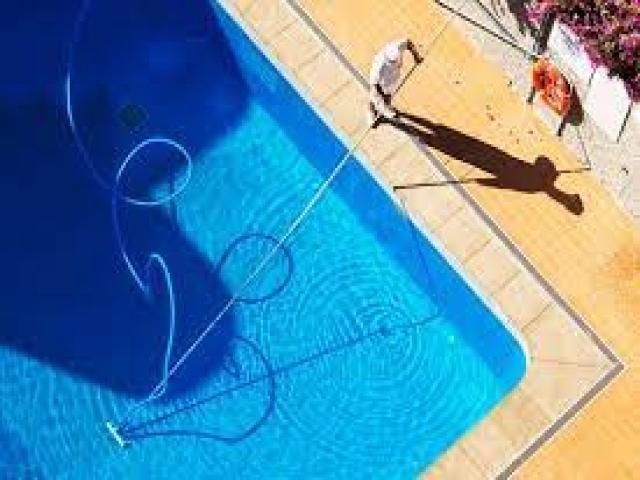out of water: (369, 36, 425, 128)
